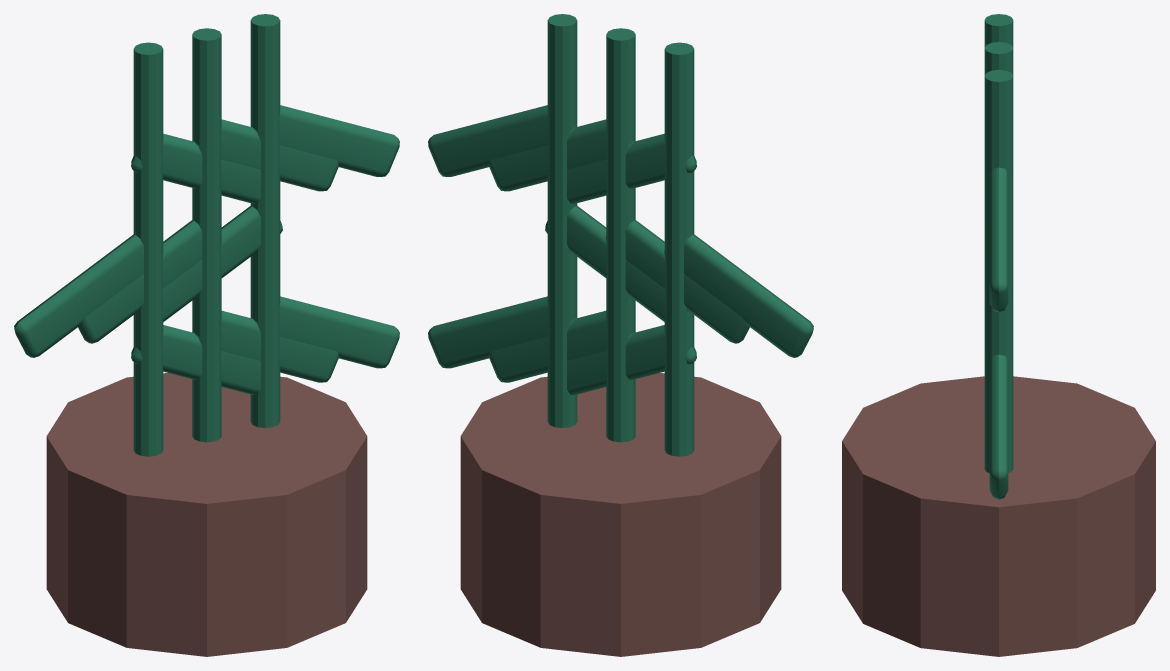
Rendered from plant.glb.
The picture shows the model from 3 angles, left to right: view 1: azimuth 30°, elevation 25°; view 2: azimuth 150°, elevation 25°; view 3: azimuth 270°, elevation 25°; orthographic projection. The views are drawn at different scales.
Parts seen in each view (by area): view 1: Planter, Bamboo stem, Bamboo stem.001, Bamboo stem.002, Bamboo leaf.001, Bamboo leaf.006, Bamboo leaf.008, Bamboo leaf.004, Bamboo leaf.005, Bamboo leaf.003, Bamboo leaf, Bamboo leaf.002 (+1 smaller); view 2: Planter, Bamboo stem, Bamboo stem.001, Bamboo stem.002, Bamboo leaf.001, Bamboo leaf.006, Bamboo leaf.008, Bamboo leaf.004, Bamboo leaf.005, Bamboo leaf.003, Bamboo leaf, Bamboo leaf.002 (+1 smaller); view 3: Planter, Bamboo stem.002, Bamboo leaf.006, Bamboo leaf.008, Bamboo stem, Bamboo stem.001.
Part boxes in pixels (bbox=[...]): Planter: bbox=[46, 373, 367, 656]; Bamboo stem: bbox=[133, 42, 163, 456]; Bamboo stem.001: bbox=[192, 28, 221, 442]; Bamboo stem.002: bbox=[250, 14, 280, 427]; Bamboo leaf.001: bbox=[14, 234, 163, 357]; Bamboo leaf.006: bbox=[251, 296, 399, 368]; Bamboo leaf.008: bbox=[251, 105, 399, 176]; Bamboo leaf.004: bbox=[78, 220, 221, 343]; Bamboo leaf.005: bbox=[192, 119, 338, 191]; Bamboo leaf.003: bbox=[192, 310, 338, 382]; Bamboo leaf: bbox=[131, 325, 280, 394]; Bamboo leaf.002: bbox=[131, 133, 280, 203]; Planter: bbox=[460, 373, 781, 656]; Bamboo stem: bbox=[664, 42, 694, 456]; Bamboo stem.001: bbox=[606, 28, 635, 442]; Bamboo stem.002: bbox=[547, 14, 577, 427]; Bamboo leaf.001: bbox=[664, 234, 813, 357]; Bamboo leaf.006: bbox=[428, 296, 576, 368]; Bamboo leaf.008: bbox=[428, 105, 576, 176]; Bamboo leaf.004: bbox=[606, 220, 749, 343]; Bamboo leaf.005: bbox=[489, 119, 635, 191]; Bamboo leaf.003: bbox=[489, 310, 635, 382]; Bamboo leaf: bbox=[547, 325, 696, 394]; Bamboo leaf.002: bbox=[547, 133, 696, 203]; Planter: bbox=[842, 376, 1155, 656]; Bamboo stem.002: bbox=[984, 70, 1013, 472]; Bamboo leaf.006: bbox=[989, 354, 1008, 499]; Bamboo leaf.008: bbox=[989, 167, 1008, 312]; Bamboo stem: bbox=[984, 14, 1013, 47]; Bamboo stem.001: bbox=[984, 42, 1013, 75].
Bounding box in the file's own units: 1.05 × 1.45 × 0.76.
